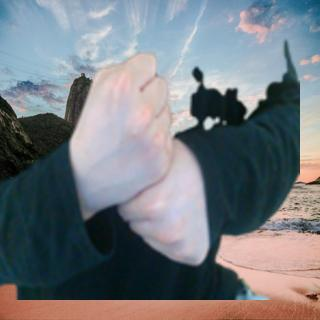CAREFUL: (69, 49, 210, 273)
